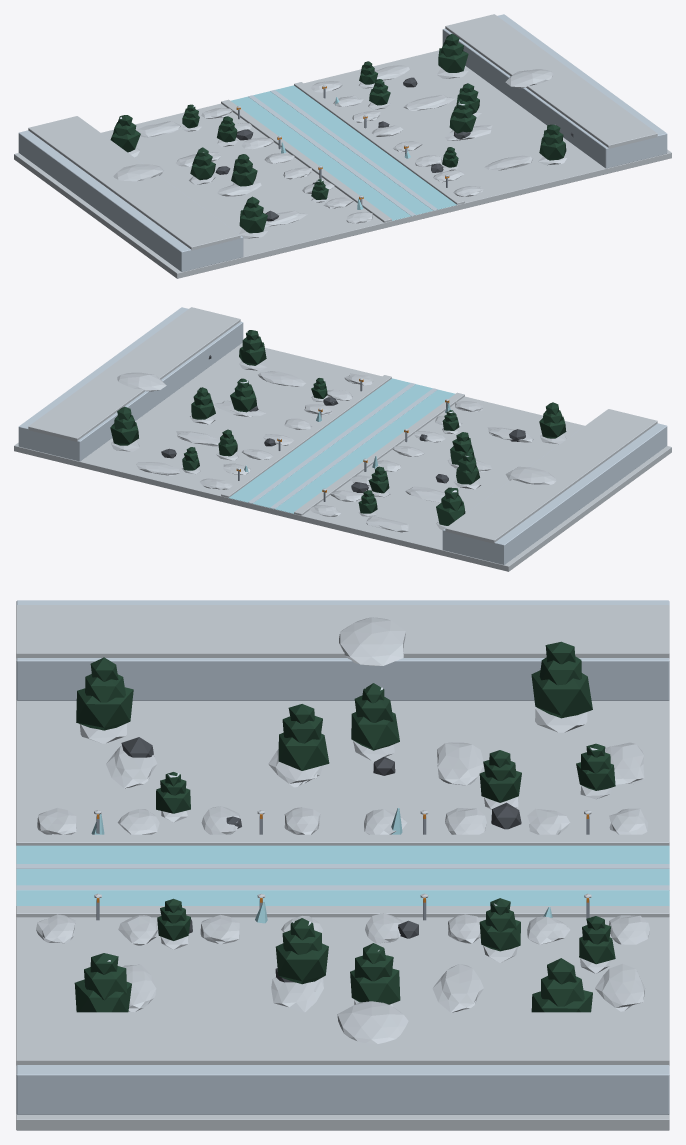
File: MenuRideSegment_B.fbx
3 renders of one model, top to bottom at view 1: azimuth 30°, elevation 25°; view 2: azimuth 150°, elevation 25°; view 3: azimuth 270°, elevation 25°, orthographic. The views are drawn at different scales.
Parts seen in each view (by area): view 1: MenuRideSegment_B; view 2: MenuRideSegment_B; view 3: MenuRideSegment_B.
Part boxes in pixels (<box>): MenuRideSegment_B: <box>14,14,671,278</box>; MenuRideSegment_B: <box>14,307,671,571</box>; MenuRideSegment_B: <box>16,600,669,1130</box>.
Size of the model in its own units: 5600 by 518 by 3200.
